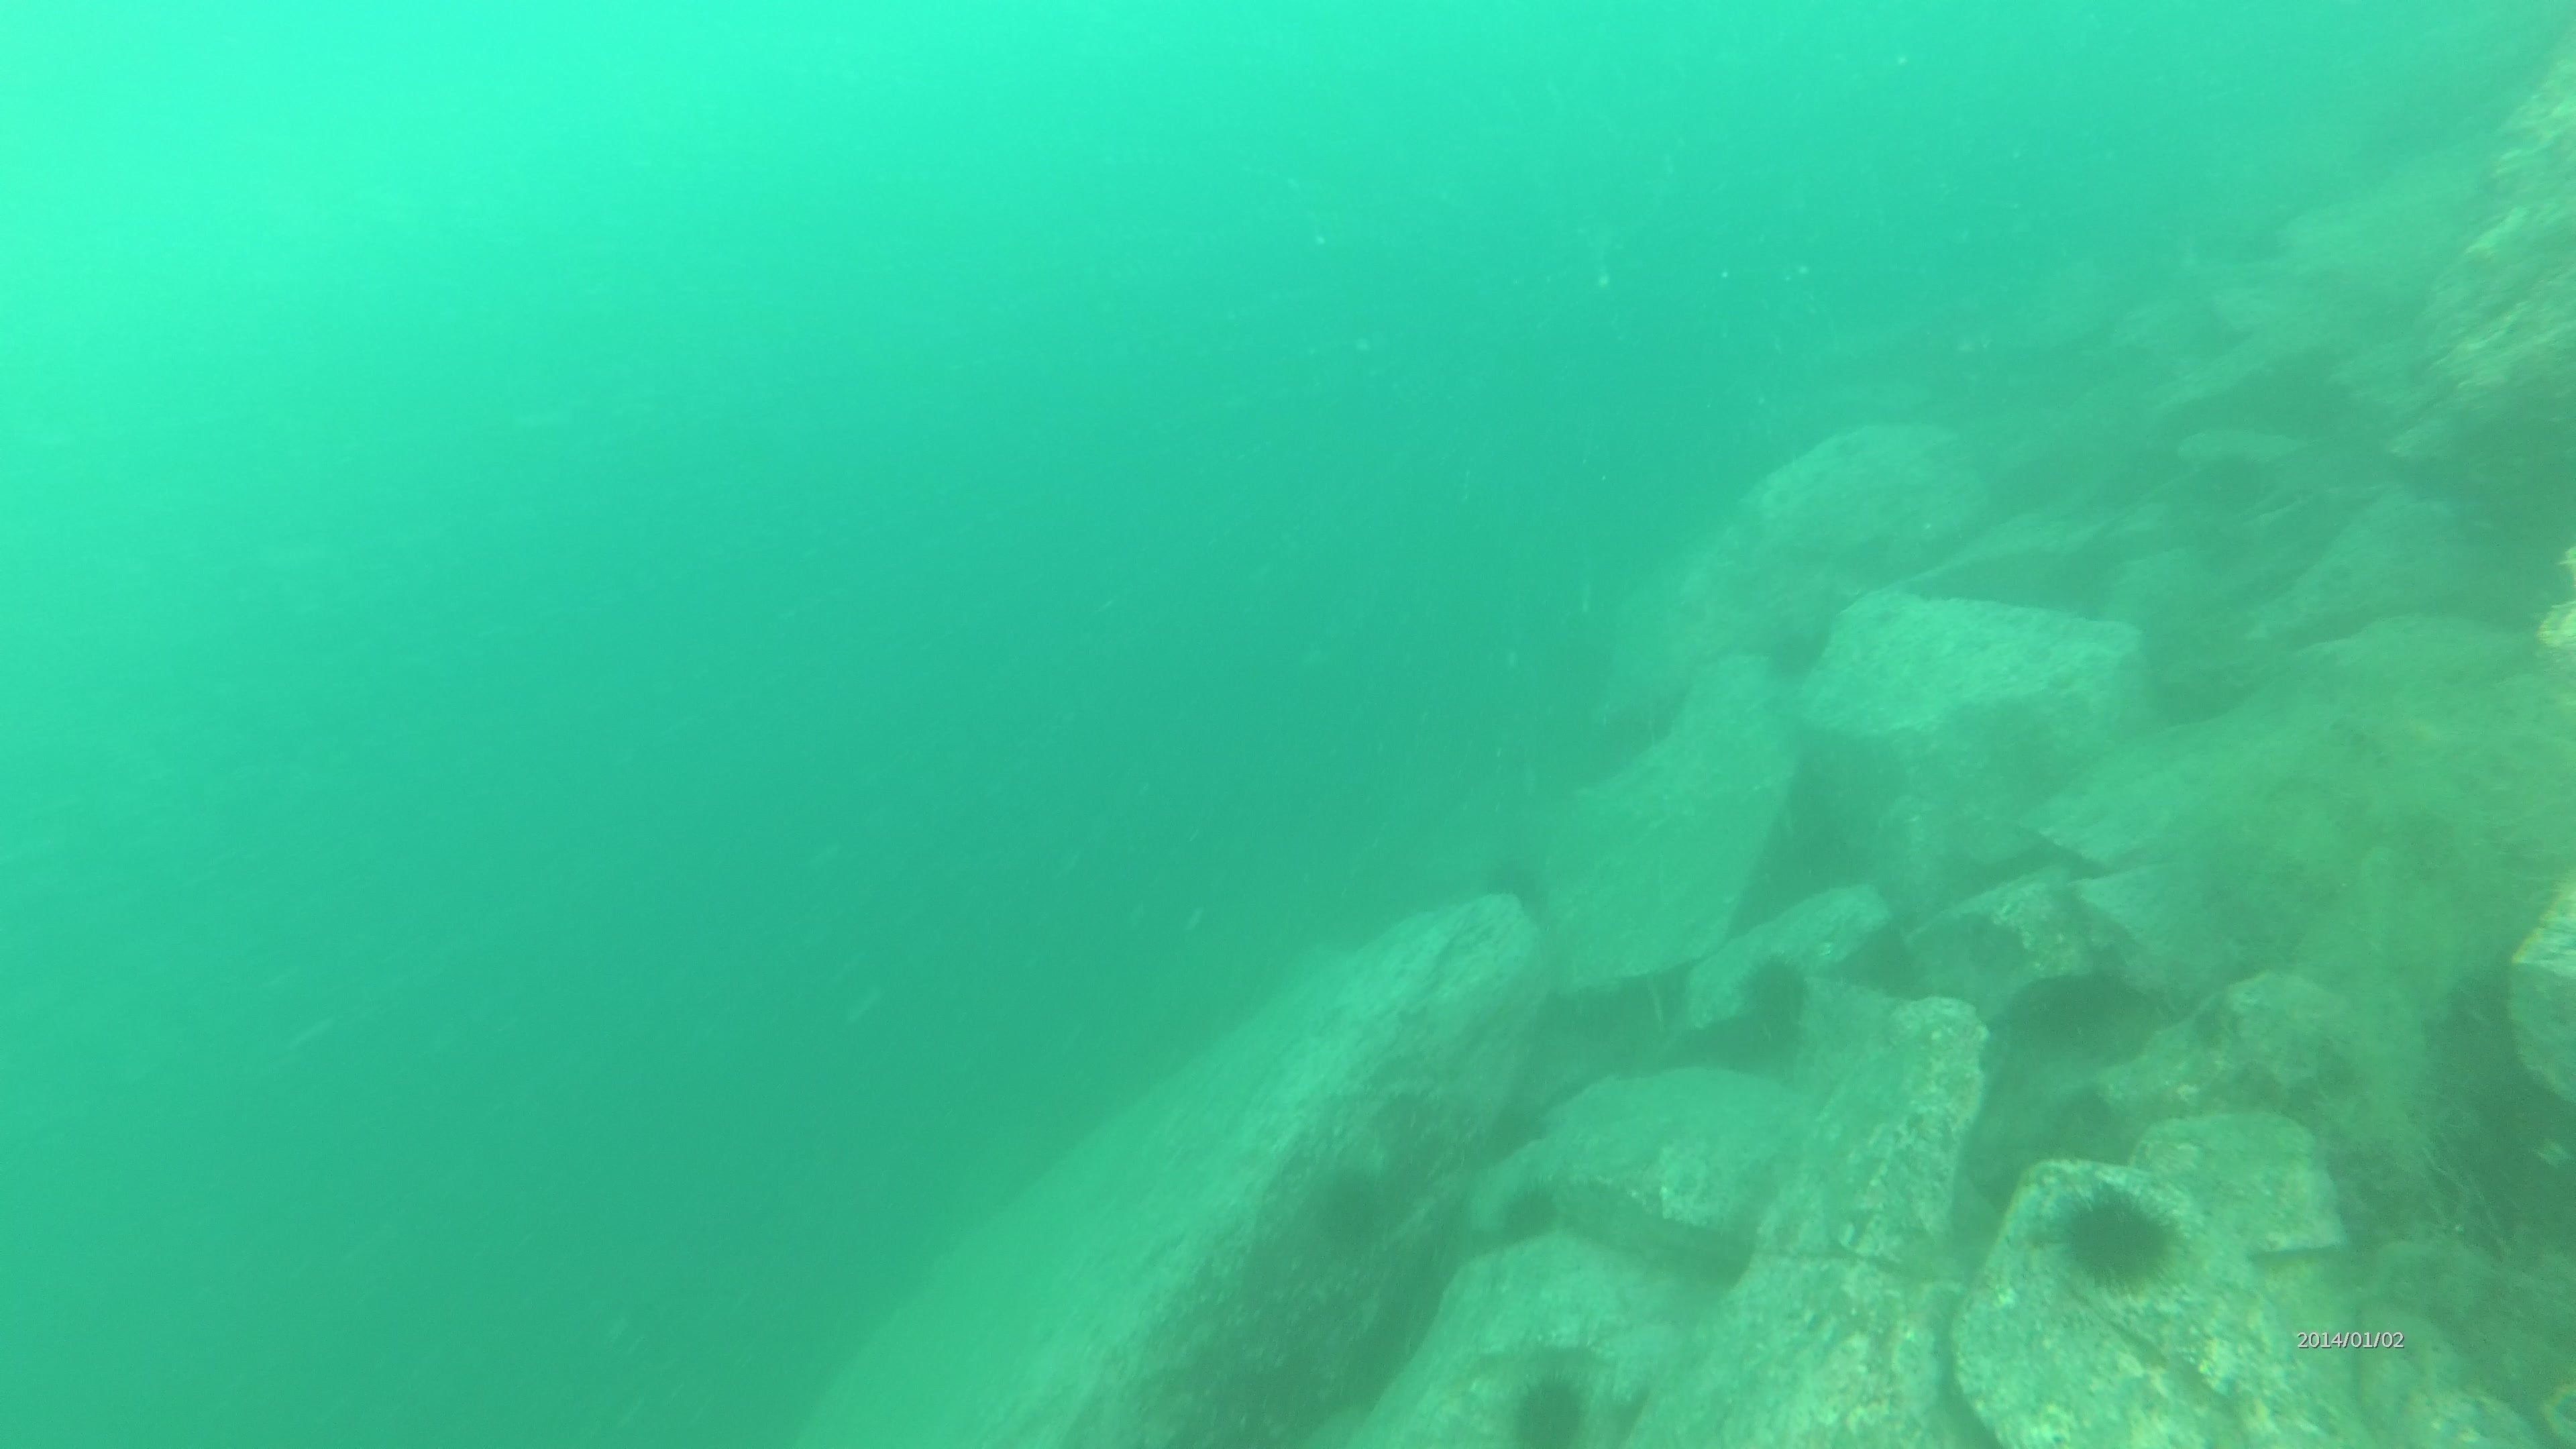echinus: (2049, 1178, 2185, 1297), (1730, 948, 1821, 1058), (1302, 1159, 1399, 1260), (1502, 1366, 1598, 1449), (1491, 1175, 1568, 1249), (1488, 862, 1548, 924)
